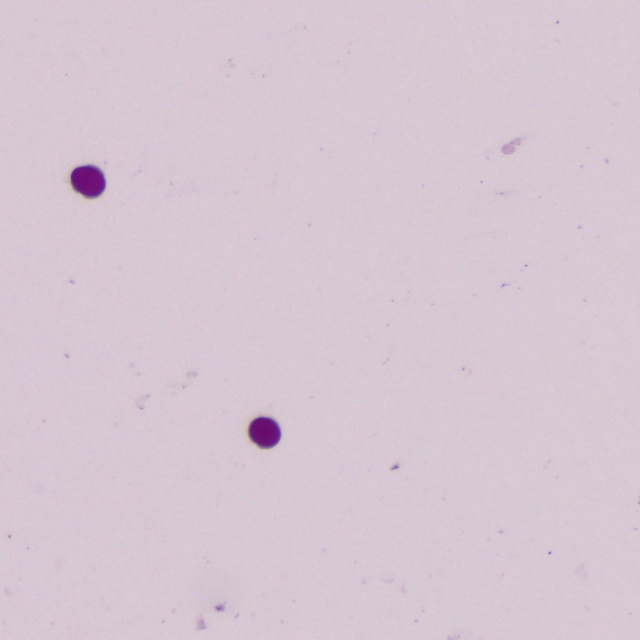viable: (72, 166, 105, 197), (250, 418, 280, 447)
